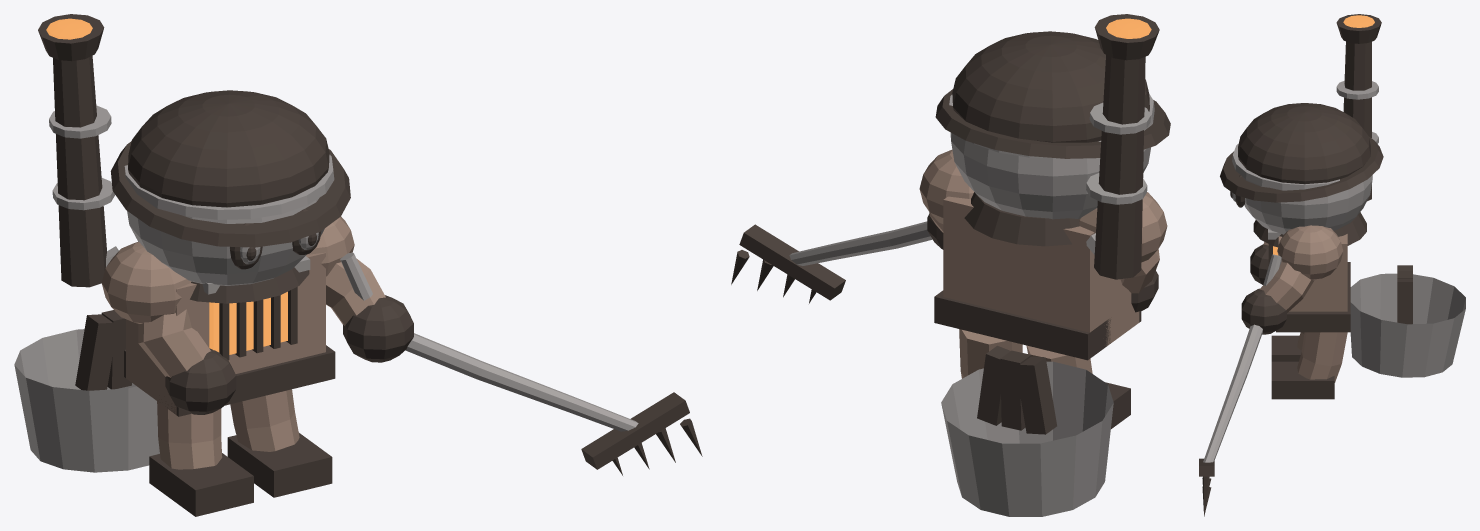
Rendered from stoker_chibi.glb.
3 views of the same model, side by side, from view 1: azimuth 30°, elevation 25°; view 2: azimuth 150°, elevation 25°; view 3: azimuth 270°, elevation 25° (orthographic). The views are drawn at different scales.
Parts seen in each view (by area): view 1: stoker_chibi_dark, stoker_chibi_bone, stoker_chibi_body, stoker_chibi_glow; view 2: stoker_chibi_dark, stoker_chibi_bone, stoker_chibi_body, stoker_chibi_glow; view 3: stoker_chibi_dark, stoker_chibi_bone, stoker_chibi_body, stoker_chibi_glow.
Part boxes in pixels (left/top/right/bottom): stoker_chibi_dark: left=38, top=14, right=702, bottom=516; stoker_chibi_bone: left=14, top=105, right=638, bottom=472; stoker_chibi_body: left=101, top=216, right=385, bottom=469; stoker_chibi_glow: left=46, top=18, right=287, bottom=354; stoker_chibi_dark: left=731, top=14, right=1170, bottom=434; stoker_chibi_bone: left=789, top=94, right=1154, bottom=516; stoker_chibi_body: left=919, top=150, right=1167, bottom=378; stoker_chibi_glow: left=1106, top=18, right=1151, bottom=38; stoker_chibi_dark: left=1199, top=14, right=1412, bottom=516; stoker_chibi_bone: left=1203, top=80, right=1465, bottom=462; stoker_chibi_body: left=1259, top=225, right=1347, bottom=382; stoker_chibi_glow: left=1273, top=15, right=1374, bottom=255.
Bounding box in the file's own units: 2.88 × 2.4 × 1.78.
